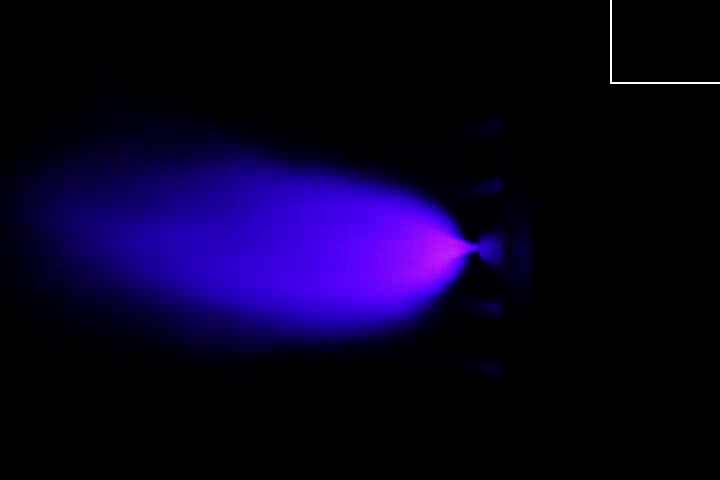burner cap: (477, 231, 505, 271)
stable: (375, 188, 476, 309)
